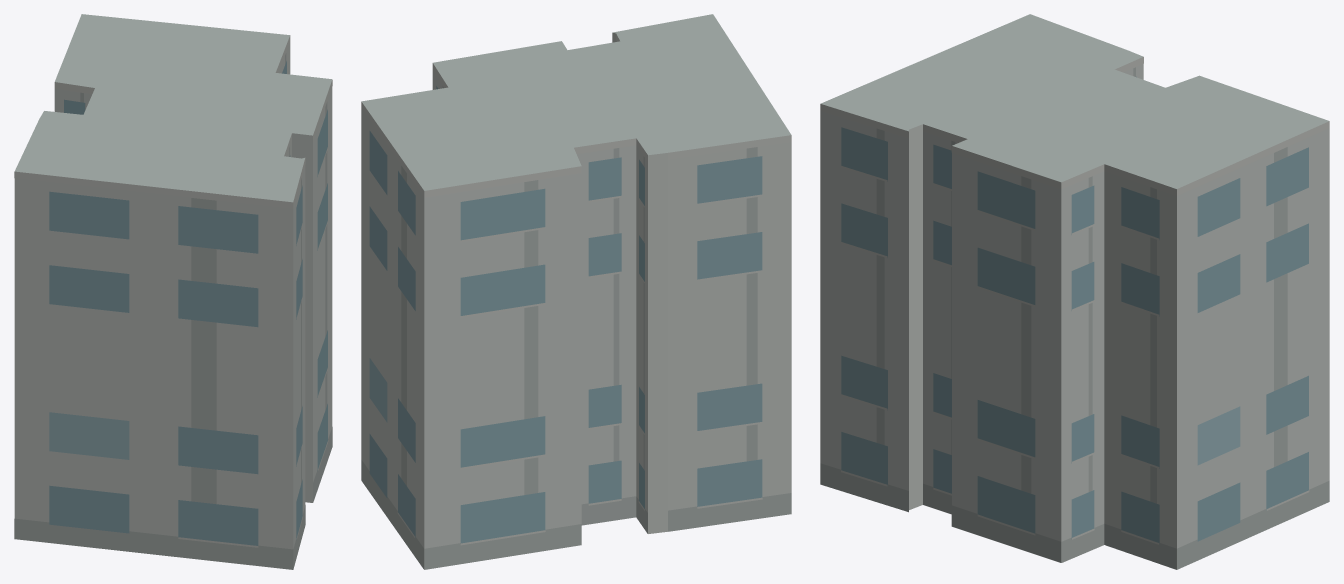
The model's file is survey-upis-32888248.glb.
The picture shows the model from 3 angles, left to right: view 1: azimuth 30°, elevation 25°; view 2: azimuth 150°, elevation 25°; view 3: azimuth 270°, elevation 25°; orthographic projection. The views are drawn at different scales.
Visible parts, largest first — view 1: survey-upis-32888248.tmp; view 2: survey-upis-32888248.tmp; view 3: survey-upis-32888248.tmp.
Part boxes in pixels (x1=…): survey-upis-32888248.tmp: x1=14, y1=14, x2=332, y2=569; survey-upis-32888248.tmp: x1=361, y1=14, x2=791, y2=569; survey-upis-32888248.tmp: x1=820, y1=14, x2=1329, y2=569.
Size of the model in its own units: 13.03 by 13.2 by 16.01.
